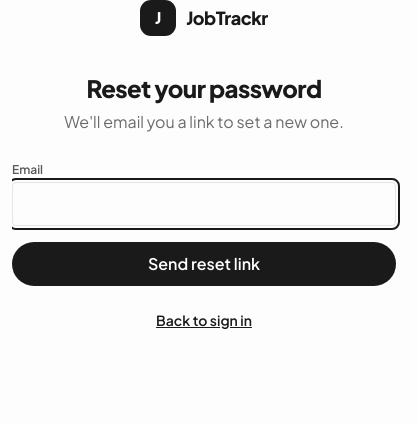
Test: ForgotPasswordForm › still reports rate limiting, which is not a disclosure
Step 1. Type "a@b.com" into the field labelled "Email" → (204, 204), box [12,182,396,226]
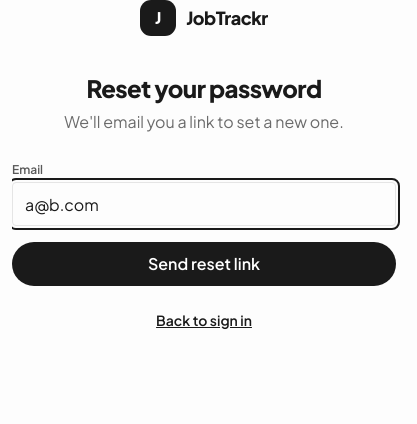
Step 2. Click the button "Send reset link" → (204, 264), box [12,242,396,286]
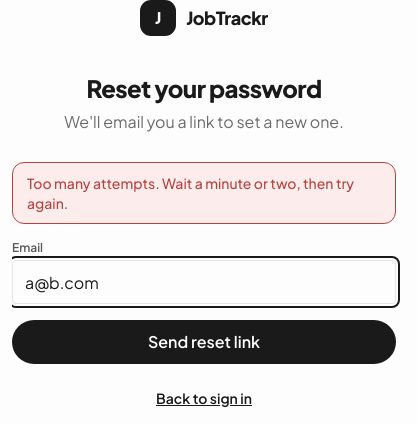
Expected: the message shows "Too many", [27,174,354,212]
